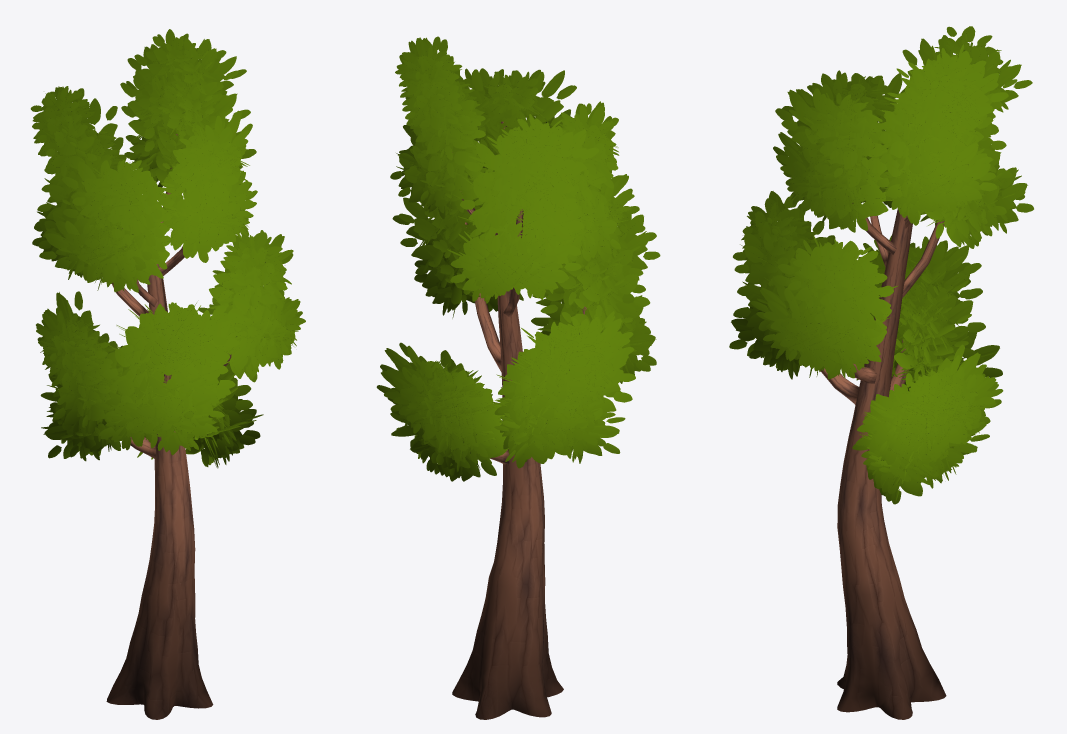
File: CommonTree_3.gltf
The picture shows the model from 3 angles, left to right: view 1: azimuth 30°, elevation 25°; view 2: azimuth 150°, elevation 25°; view 3: azimuth 270°, elevation 25°; orthographic projection. The views are drawn at different scales.
Parts seen in each view (by area): view 1: CommonTree_3; view 2: CommonTree_3; view 3: CommonTree_3.
Boxes of the visible parts, bbox=[...] form: CommonTree_3: bbox=[30, 29, 305, 719]; CommonTree_3: bbox=[376, 36, 660, 719]; CommonTree_3: bbox=[729, 26, 1033, 719].
Bounding box in the file's own units: 4.06 × 9.43 × 4.24.
2 materials, 2 textured.
